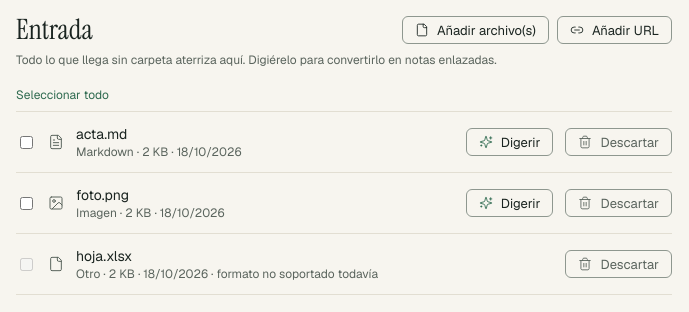
it: InboxView › Descartar sends the item to the trash and removes it from the list
Click the button with test id "discard-acta.md" at (619, 142), box [566,128,672,156]
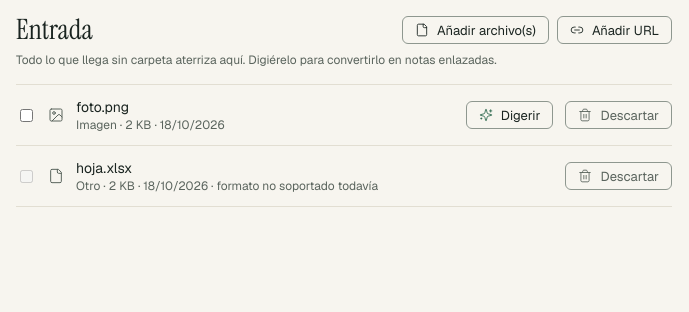
Result: the text "acta.md" is gone
